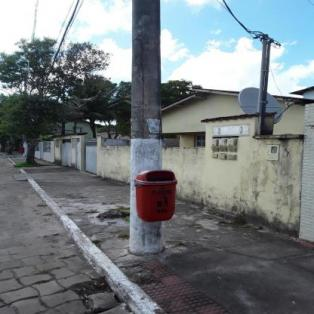Poste: (125, 0, 167, 254)
